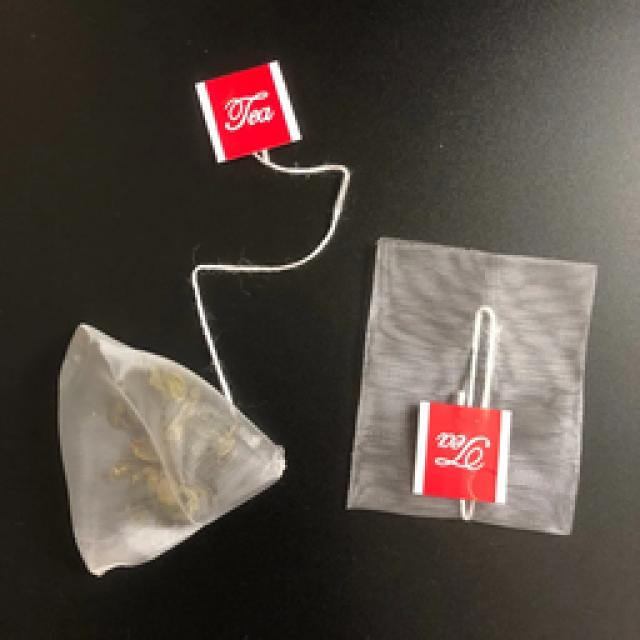tea-bags: (345, 238, 595, 532), (58, 325, 282, 575)
